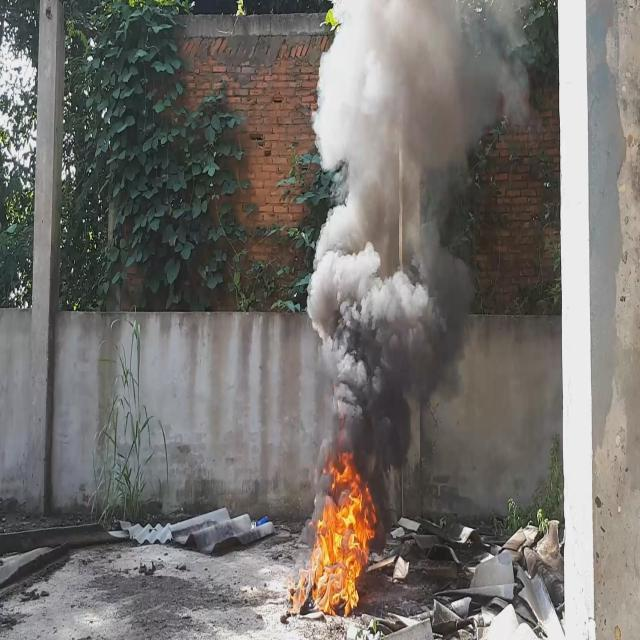Fire: (293, 451, 382, 620)
Smoke: (304, 0, 528, 474)
